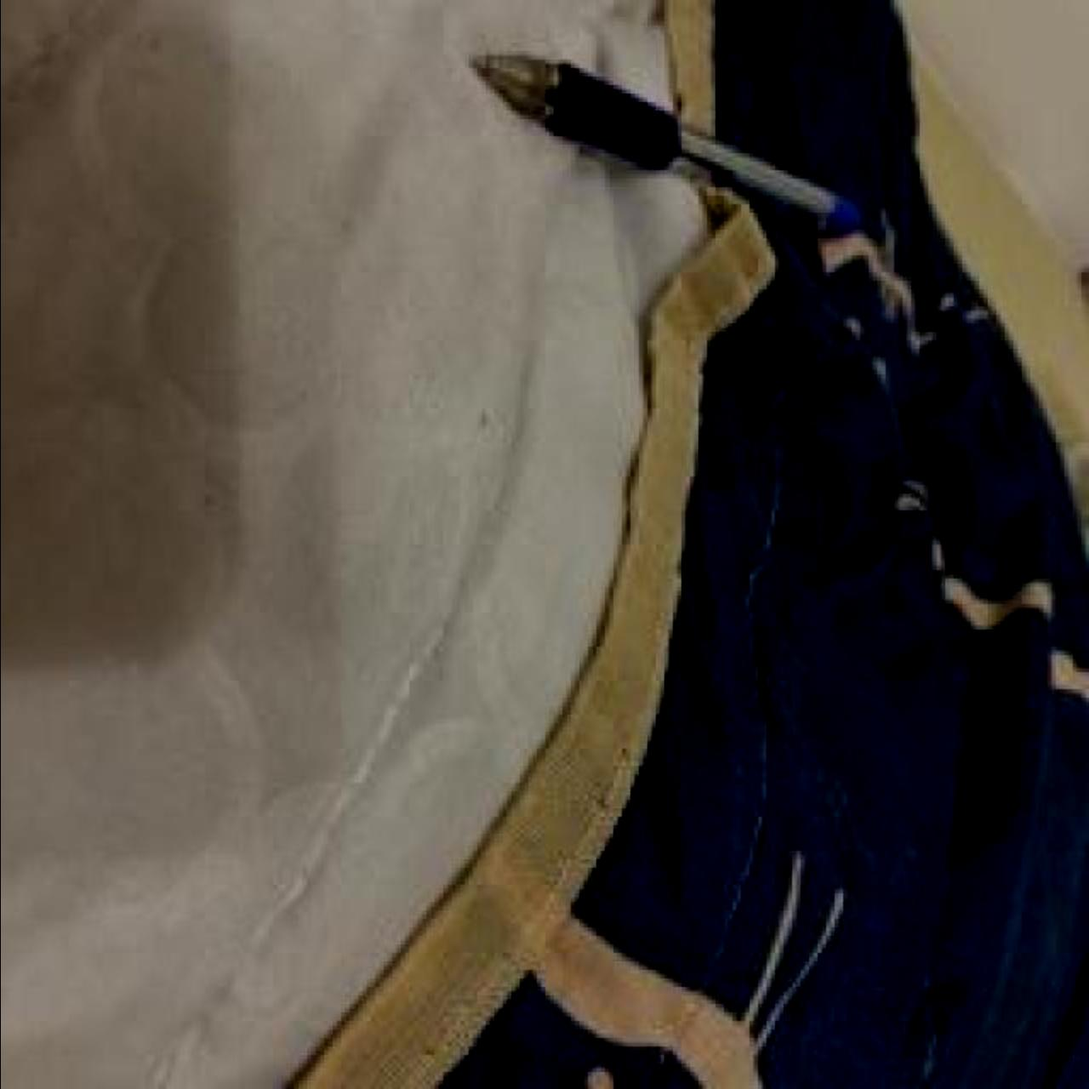pen: (463, 51, 863, 243)
